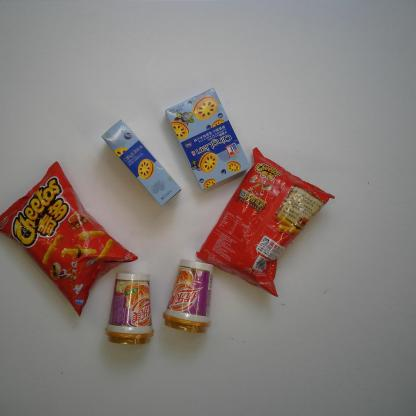Dessert: (164, 87, 250, 190), (101, 119, 182, 207)
Instant Drink: (162, 259, 215, 334), (104, 272, 155, 346)
Puffed Food: (0, 160, 139, 318), (196, 146, 336, 298)
